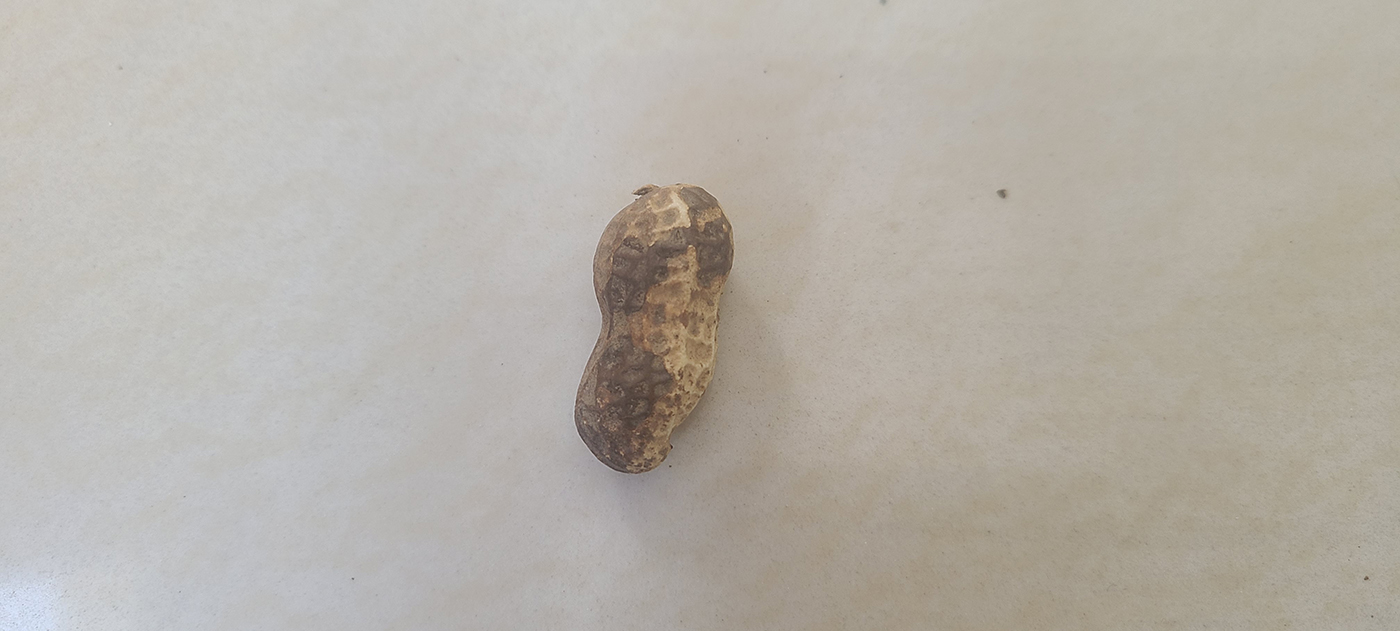l: (574, 182, 731, 475)
